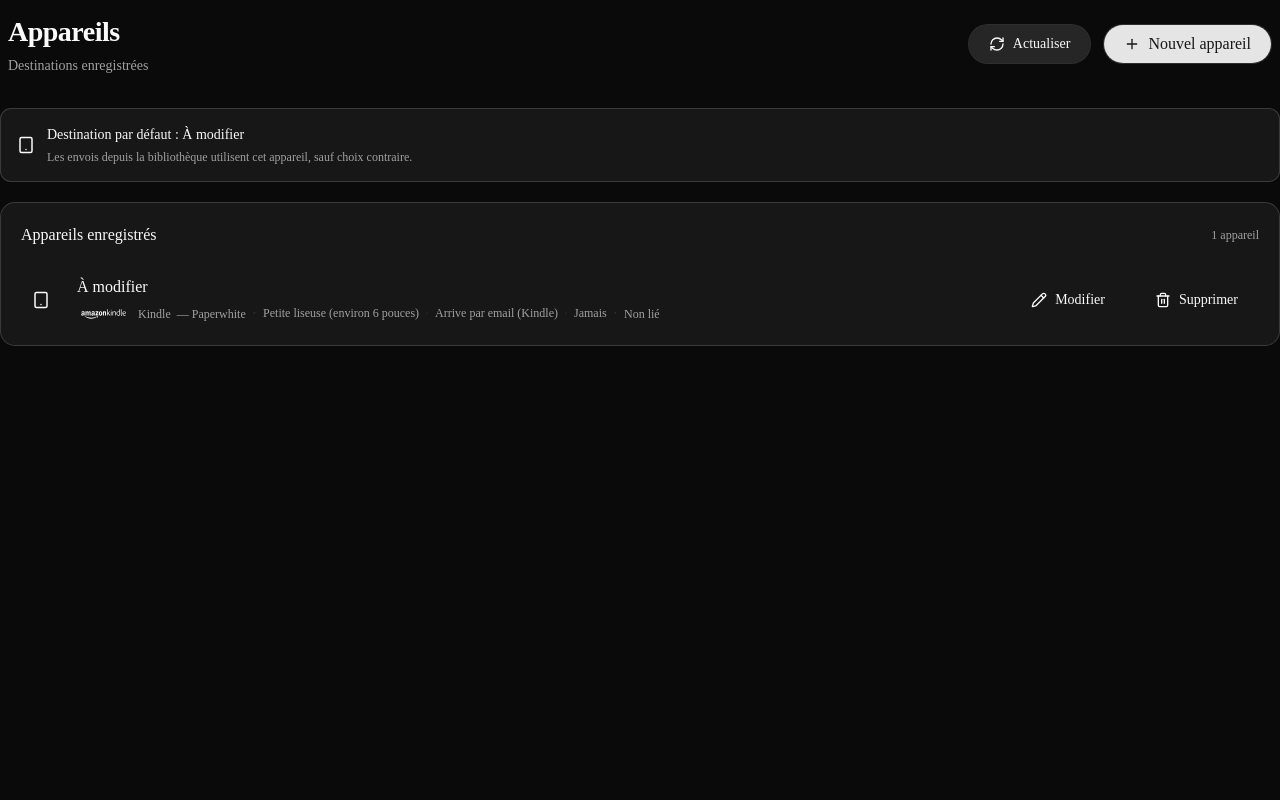
Scenario: UI harness — devices list › opens edit dialog for an existing device
The width and height of the screenshot is (1280, 800).
Click the button with aria-label "Modifier « À modifier »": click(1068, 300) [1010,280,1126,320]
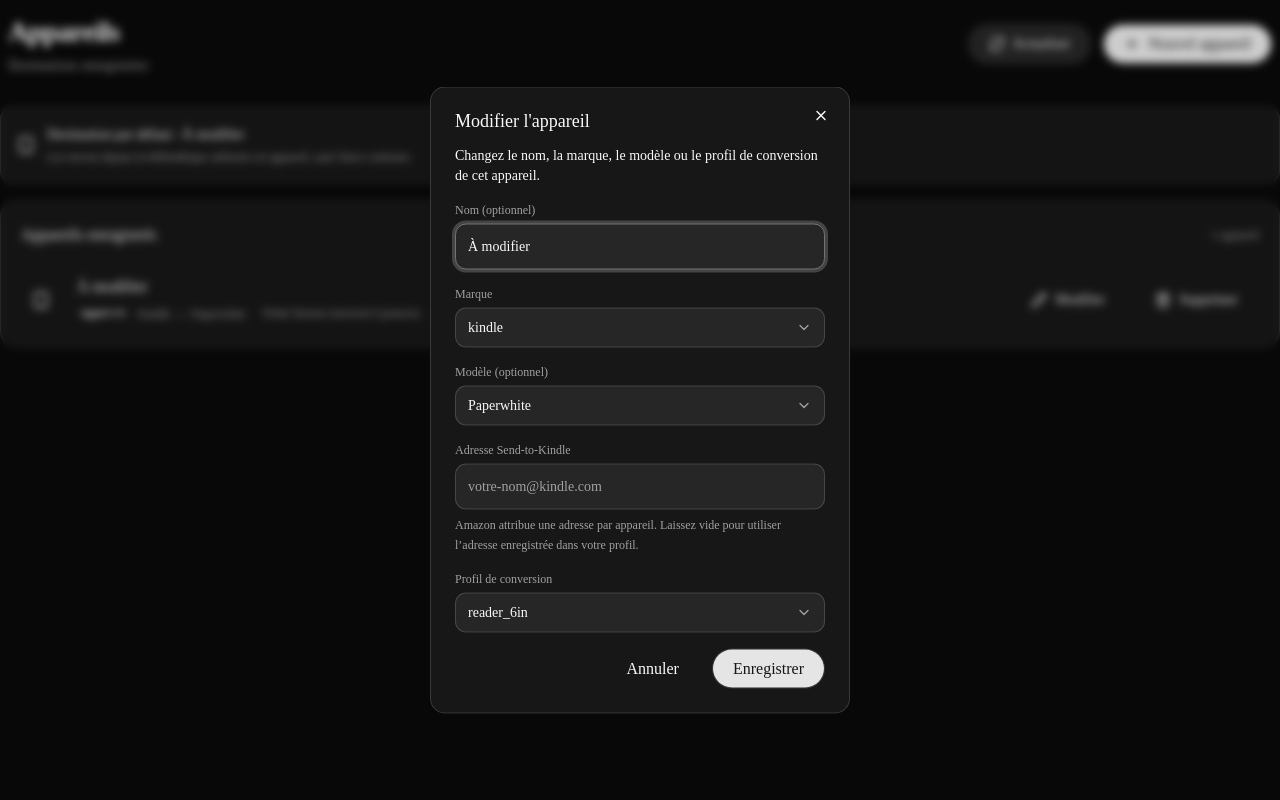
Now the heading "Modifier l'appareil" is shown, box [455,110,590,130]
Now the field showing "À modifier" is shown, box [455,224,825,270]
